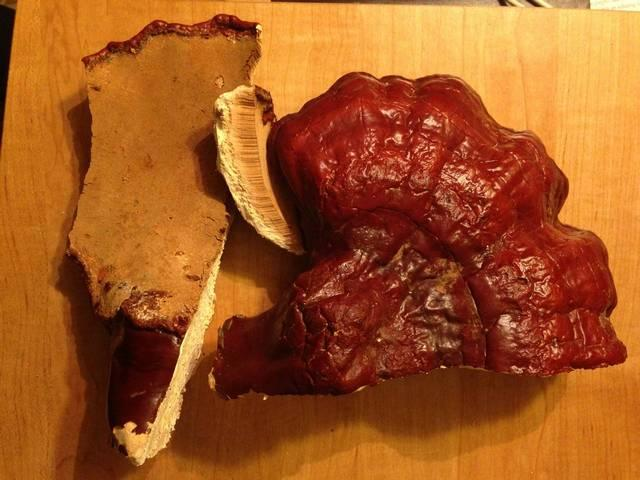Non-edible Mushroom: (208, 69, 627, 401), (63, 12, 267, 466)
